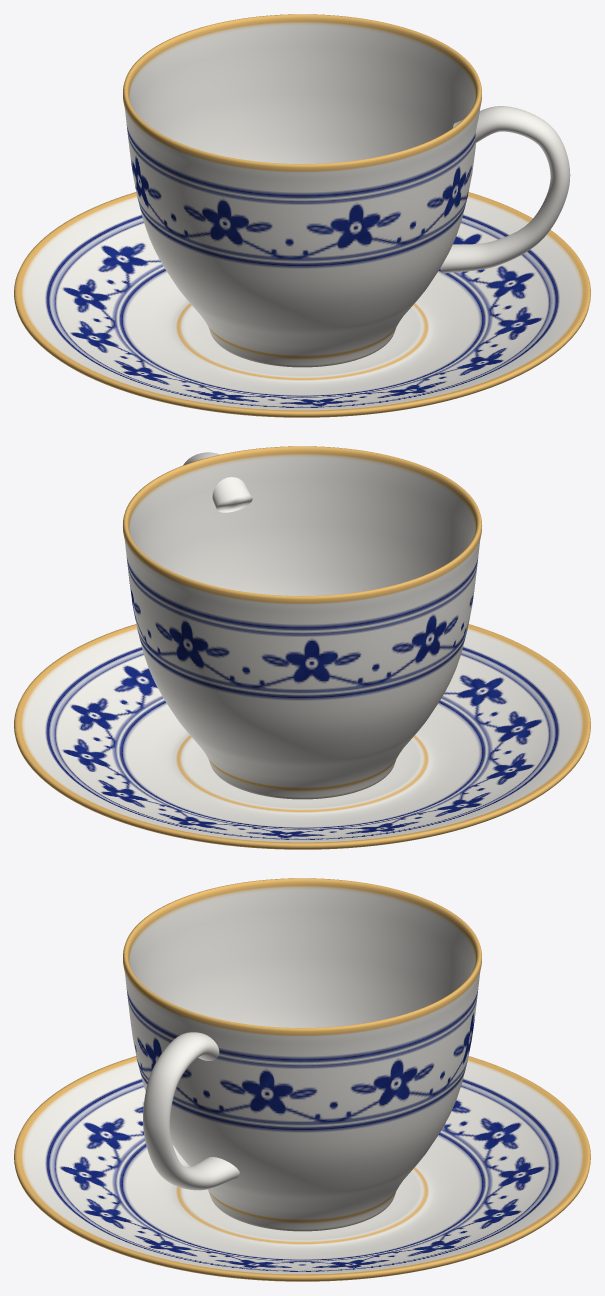
File: cup-saucer.glb
3 views of the same model, one above another, from view 1: azimuth 30°, elevation 25°; view 2: azimuth 150°, elevation 25°; view 3: azimuth 270°, elevation 25° (orthographic).
Parts seen in each view (by area): view 1: cup, saucer, cup-handle; view 2: cup, saucer, cup-handle; view 3: cup, saucer, cup-handle.
Part boxes in pixels (bbox=[...]): cup: bbox=[123, 14, 481, 367]; saucer: bbox=[14, 192, 590, 417]; cup-handle: bbox=[440, 106, 570, 273]; cup: bbox=[122, 446, 482, 799]; saucer: bbox=[14, 624, 590, 849]; cup-handle: bbox=[183, 452, 252, 512]; cup: bbox=[123, 878, 481, 1231]; saucer: bbox=[14, 1056, 590, 1281]; cup-handle: bbox=[143, 1032, 239, 1190].
Size of the model in its own units: 0.1506 by 0.0753 by 0.1506.
3 materials, 2 textured.
